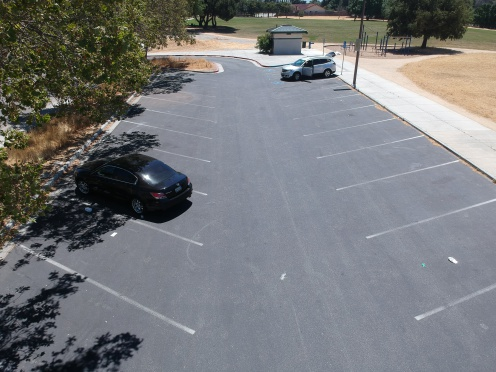plastic bag: (81, 204, 93, 213)
